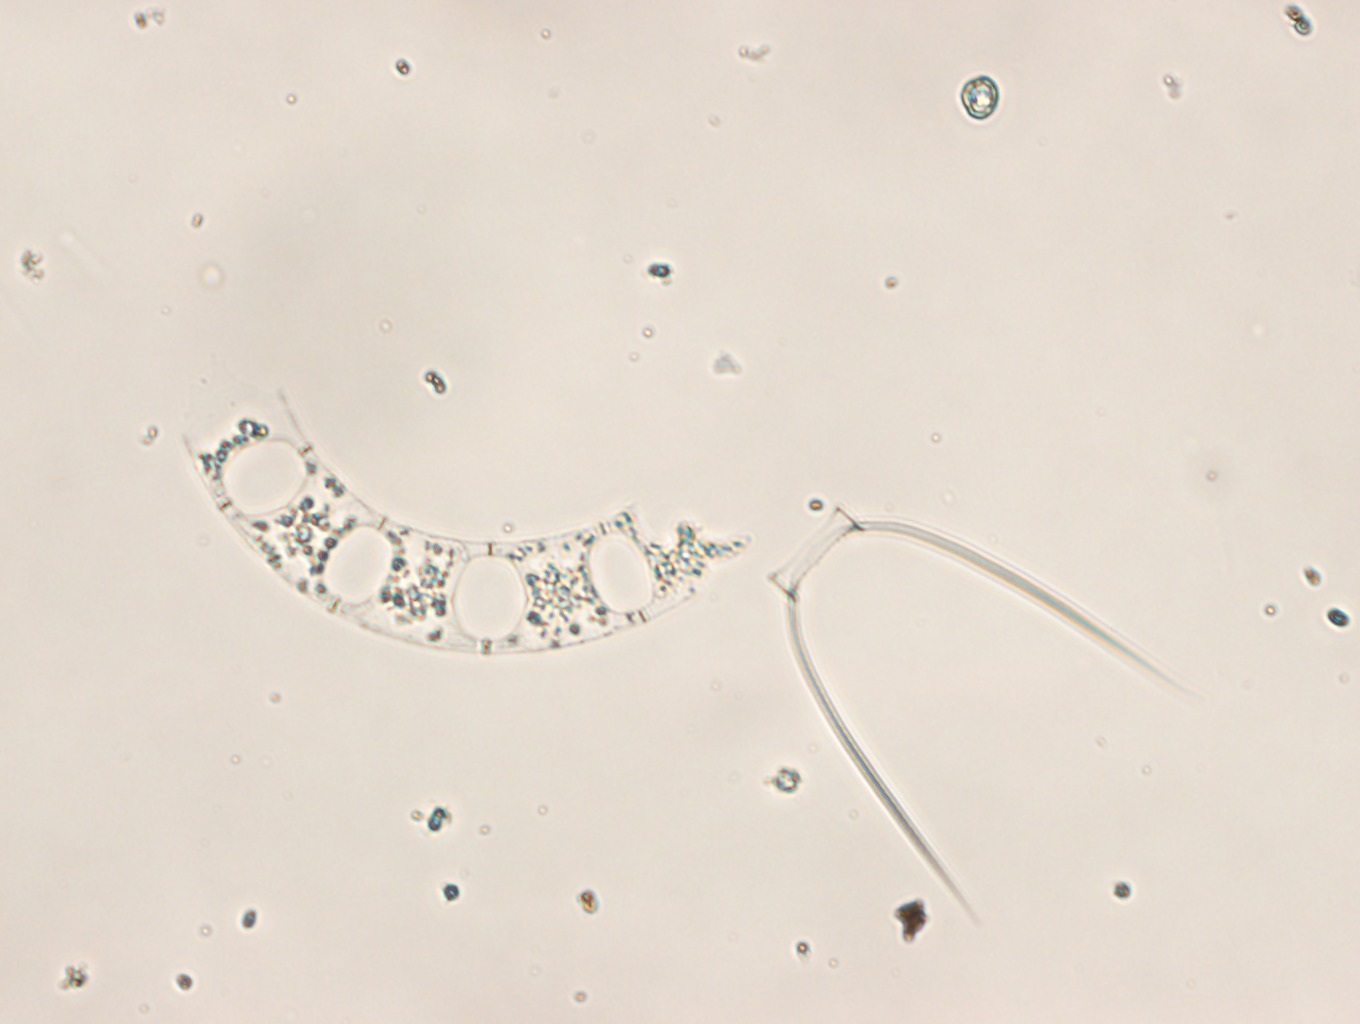chaetoceros: (764, 509, 1193, 920)
eucampia: (173, 392, 755, 658)
